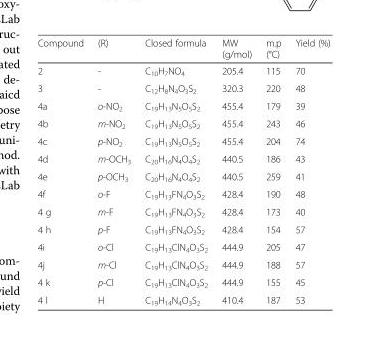table: (36, 36, 329, 306)
table column: (137, 36, 214, 306), (36, 36, 90, 306), (90, 36, 137, 306), (214, 36, 258, 306), (287, 36, 329, 306), (258, 36, 287, 306)
table column header: (36, 36, 329, 62)
table row: (36, 36, 329, 62), (36, 79, 329, 97), (36, 114, 329, 132), (36, 132, 329, 150), (36, 167, 329, 185), (36, 185, 329, 203), (36, 220, 329, 238), (36, 255, 329, 273), (36, 273, 329, 291), (36, 62, 329, 79), (36, 97, 329, 114), (36, 150, 329, 167), (36, 203, 329, 220), (36, 238, 329, 255), (36, 291, 329, 306)
